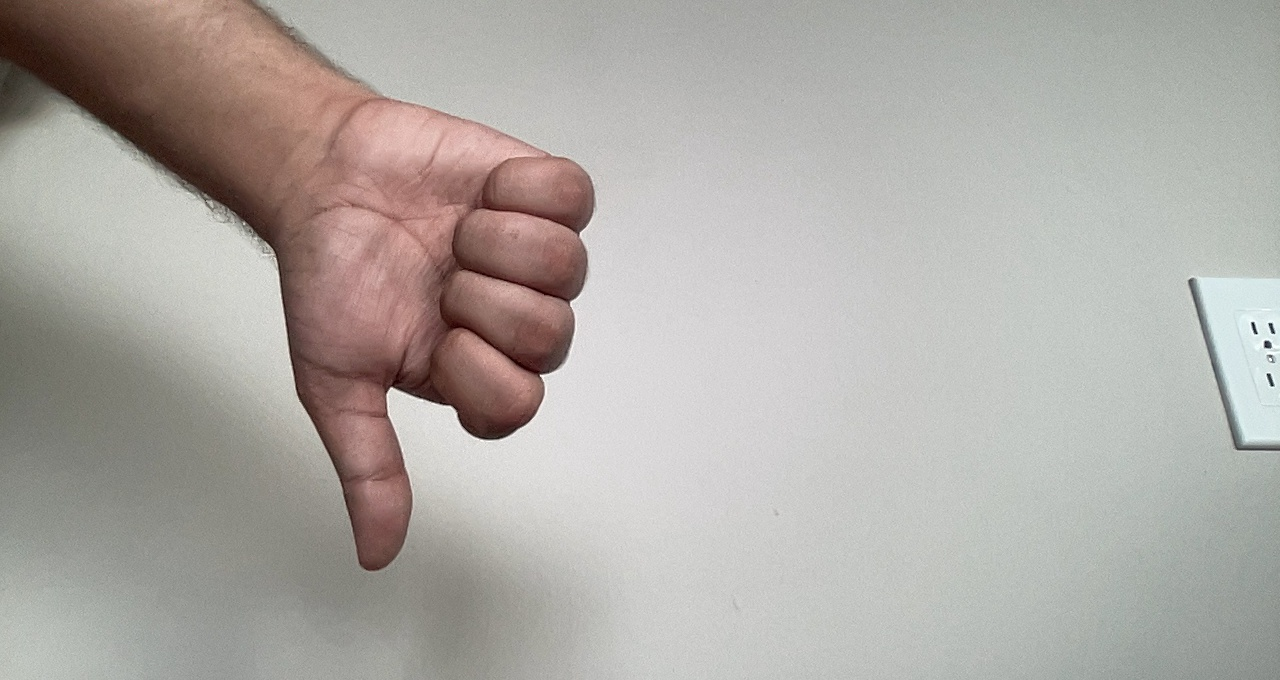thumbsdown: (277, 77, 605, 578)
